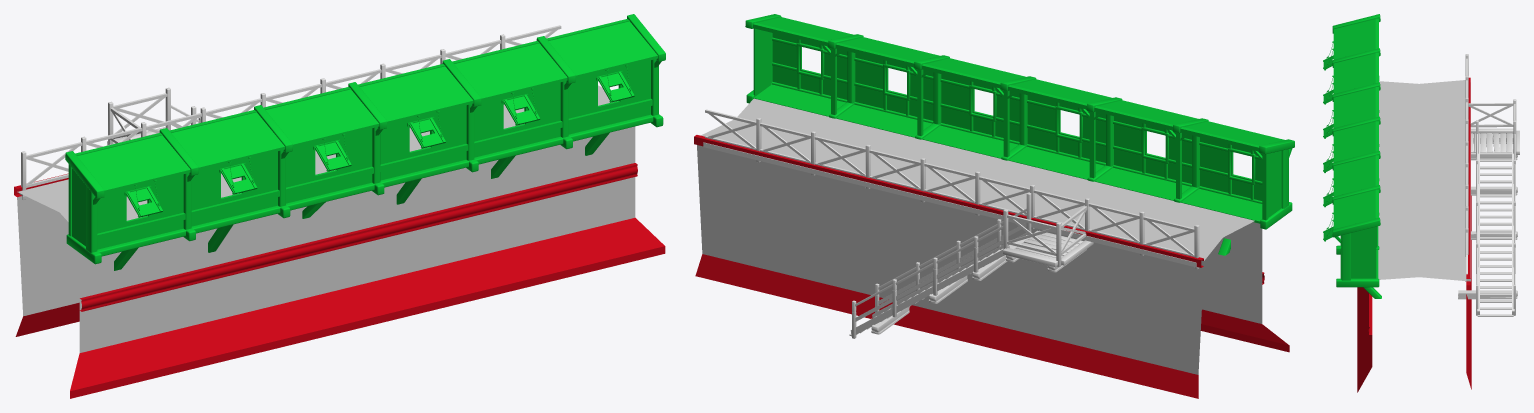
Rendered from Wall_1v2.fbx.
3 views of the same model, side by side, from view 1: azimuth 30°, elevation 25°; view 2: azimuth 150°, elevation 25°; view 3: azimuth 270°, elevation 25° (orthographic). The views are drawn at different scales.
Visible parts, largest first — view 1: Group_4.033, Group_3.009, Group_3.010, Group_4.025, Group_4.024, Group_4.023, Group_4.016, Group_4.027, Group_4.026; view 2: Group_4.033, Group_3.009, Group_3.010, Group_3.005; view 3: Group_4.033, Group_3.010, Group_3.009.
Boxes of the visible parts, <box> form: Group_4.033: <box>14,14,665,398</box>; Group_3.009: <box>19,25,561,199</box>; Group_3.010: <box>106,87,200,145</box>; Group_4.025: <box>315,140,351,171</box>; Group_4.024: <box>409,117,445,148</box>; Group_4.023: <box>503,94,540,125</box>; Group_4.016: <box>598,71,634,102</box>; Group_4.027: <box>126,186,162,217</box>; Group_4.026: <box>220,163,257,194</box>; Group_4.033: <box>694,14,1294,398</box>; Group_3.009: <box>703,109,1199,269</box>; Group_3.010: <box>849,192,1093,338</box>; Group_3.005: <box>1032,189,1086,240</box>; Group_4.033: <box>1332,14,1471,392</box>; Group_3.010: <box>1458,99,1519,316</box>; Group_3.009: <box>1465,54,1470,281</box>.
Bounding box in the file's own units: 2058 × 769 × 793.
